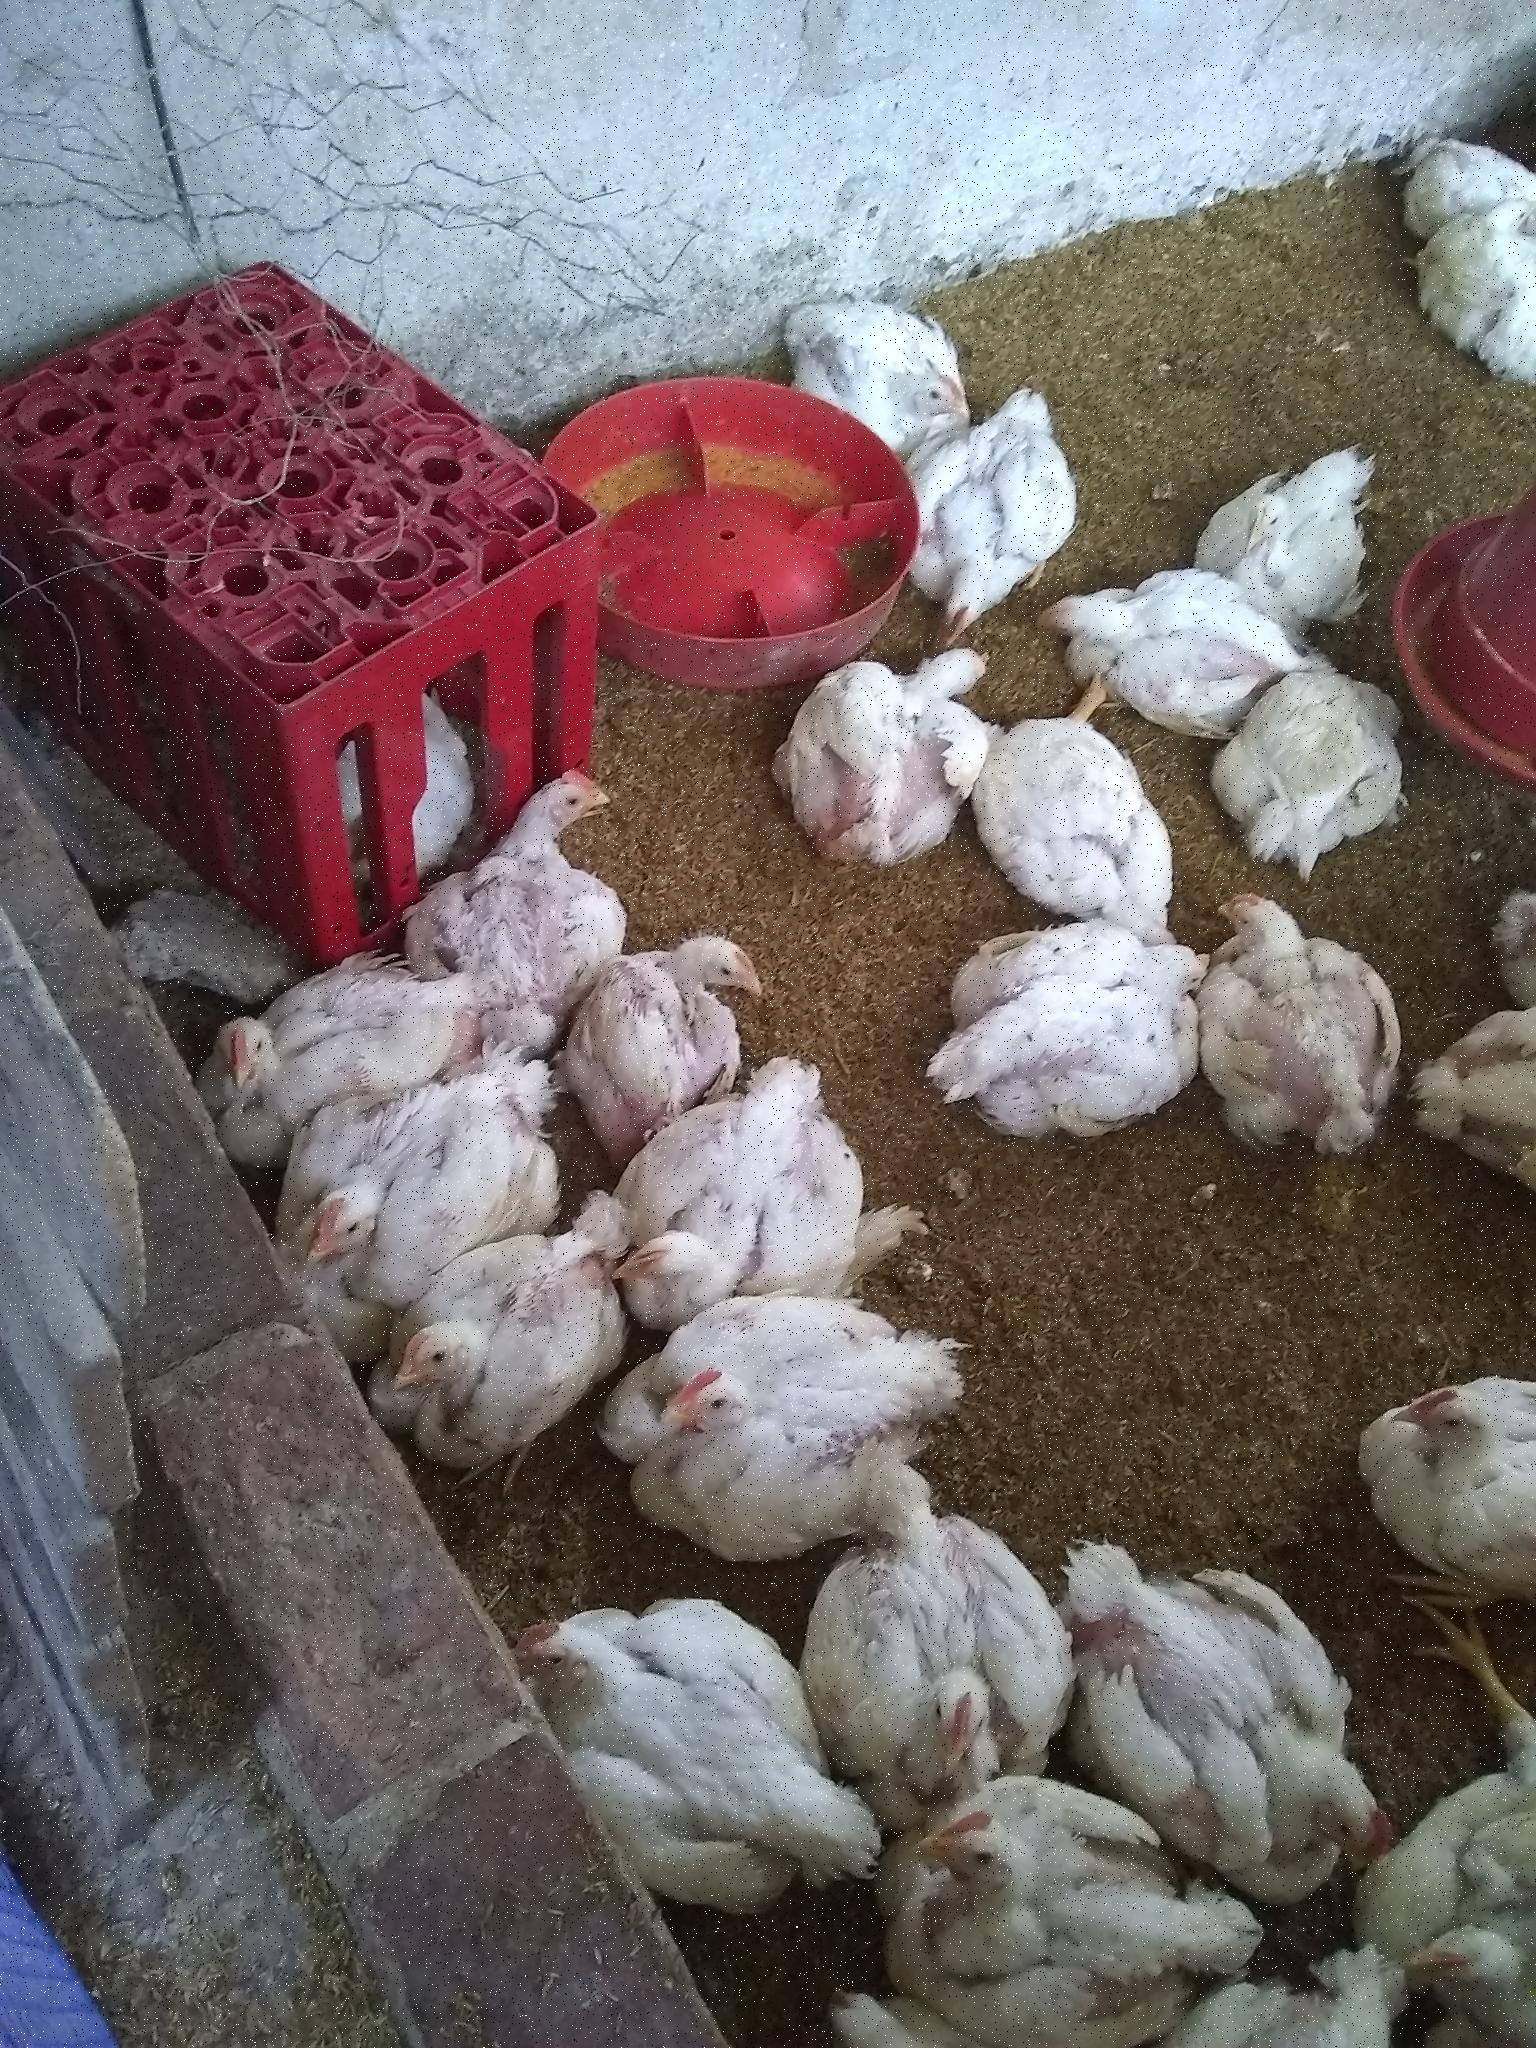Pollos: (463, 1546, 889, 1945), (1075, 1514, 1397, 1842), (599, 1321, 949, 1542), (374, 1222, 662, 1479), (244, 1039, 539, 1280), (939, 898, 1204, 1159), (899, 1811, 1204, 2035), (805, 1542, 1055, 1796), (1187, 898, 1397, 1163), (616, 1114, 886, 1316), (1367, 98, 1536, 400), (783, 606, 970, 876), (962, 706, 1196, 921), (1226, 656, 1463, 863), (203, 948, 508, 1101), (1362, 1330, 1536, 1593), (465, 739, 662, 971), (1007, 543, 1262, 714), (886, 360, 1047, 629), (1405, 1735, 1536, 2045), (1208, 397, 1397, 606), (579, 916, 773, 1118), (792, 252, 975, 458)
